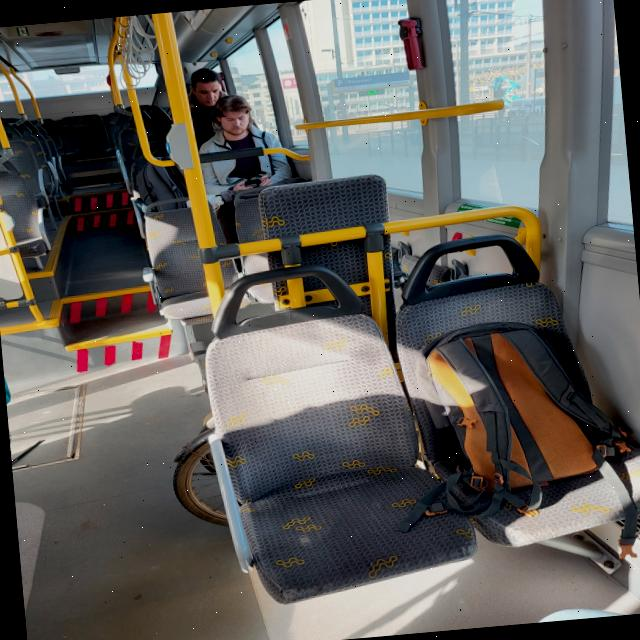empty-seat-frontal: (174, 245, 481, 606), (138, 184, 252, 324), (56, 102, 114, 171)
